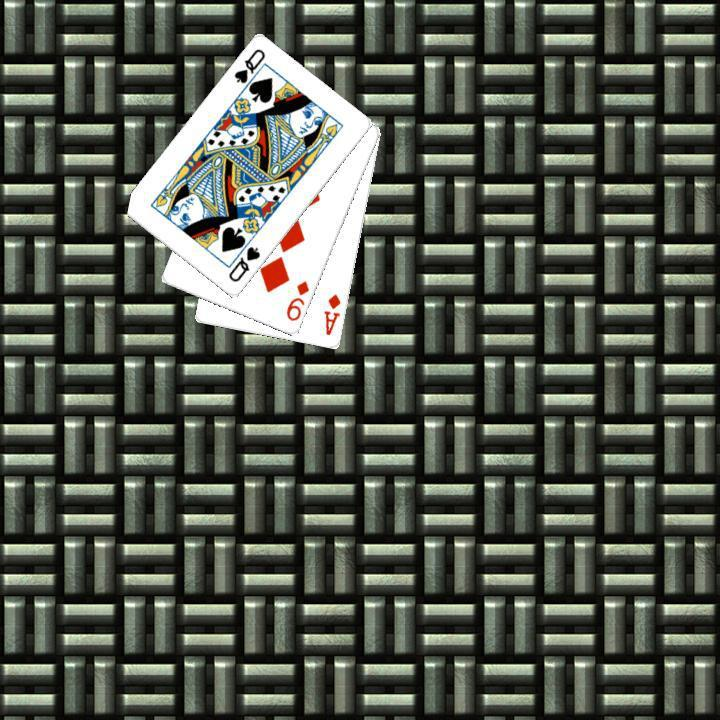9: (282, 277, 311, 324)
A: (320, 290, 343, 338)
Q: (224, 242, 262, 284), (230, 45, 267, 86)
